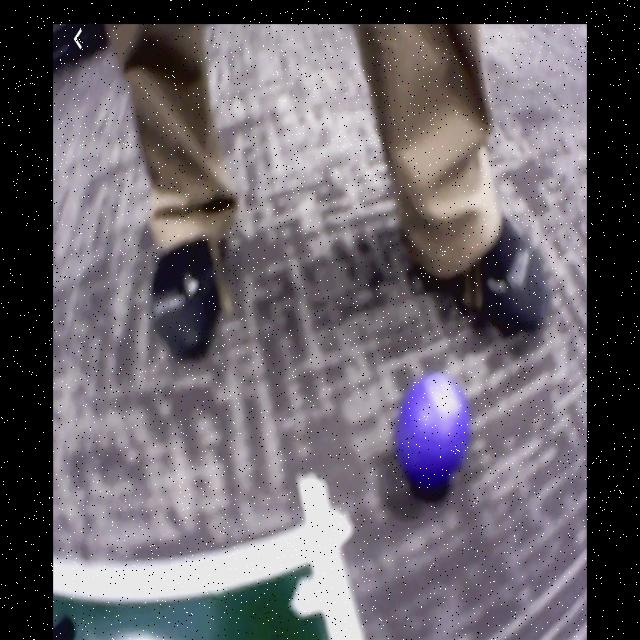ball: (396, 376, 470, 485)
